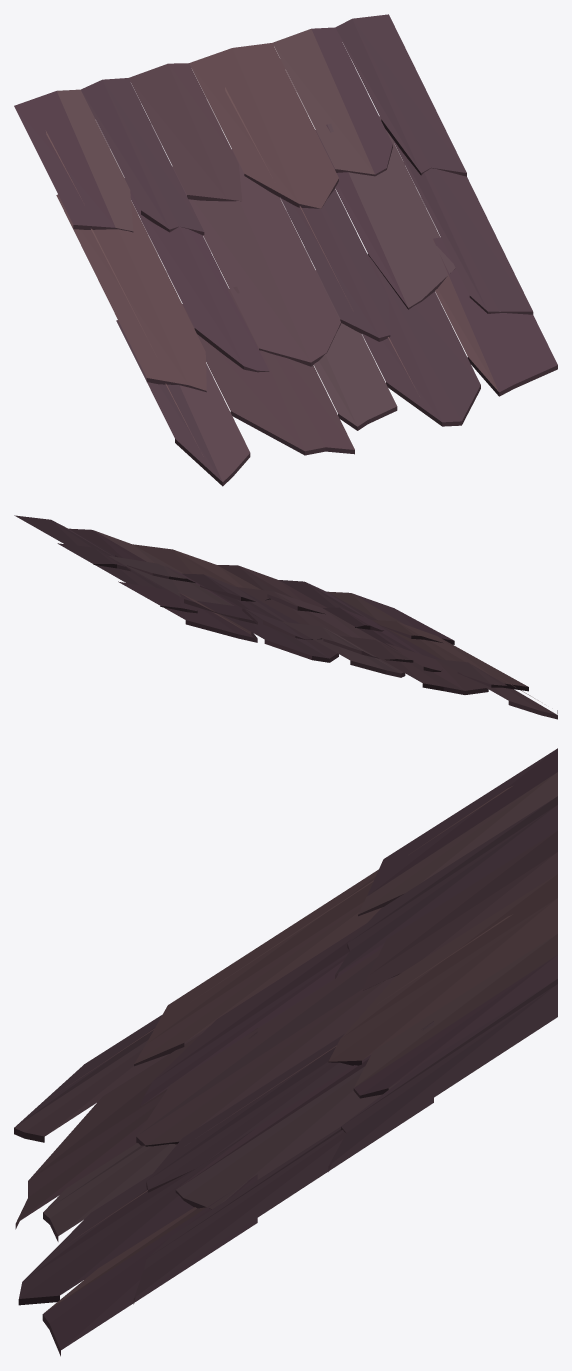
The model's file is CleftShakes43.glb.
3 views of the same model, one above another, from view 1: azimuth 30°, elevation 25°; view 2: azimuth 150°, elevation 25°; view 3: azimuth 270°, elevation 25° (orthographic). The views are drawn at different scales.
Visible parts, largest first — view 1: CleftShakes43; view 2: CleftShakes43; view 3: CleftShakes43.
Part boxes in pixels (x1=…): CleftShakes43: x1=14, y1=14, x2=557, y2=486; CleftShakes43: x1=14, y1=515, x2=557, y2=719; CleftShakes43: x1=14, y1=748, x2=557, y2=1356.
Size of the model in its own units: 2.02 by 1.32 by 1.73.
